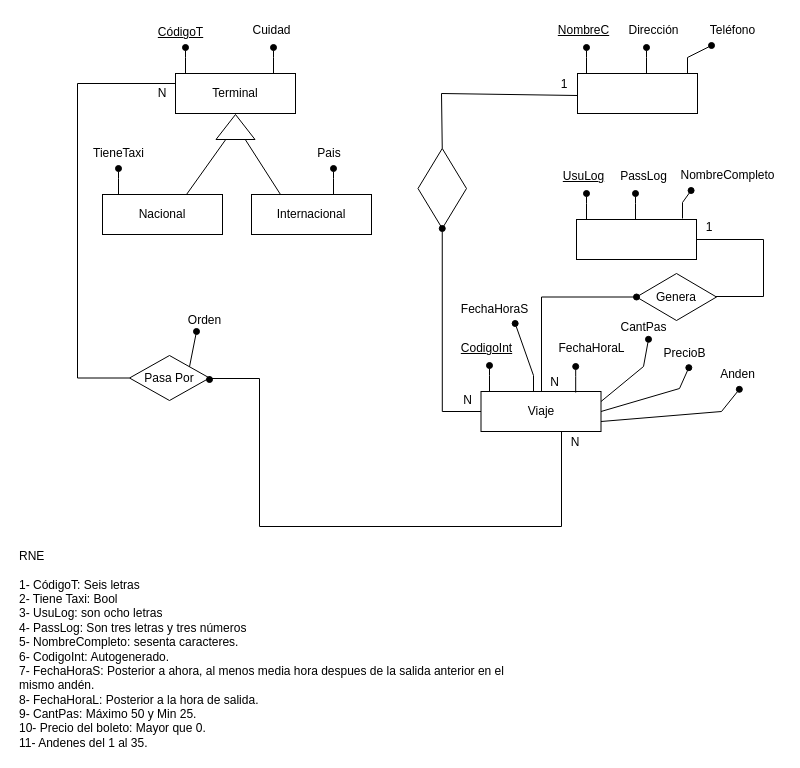
Some shapes in this 800 by 768 pixel diagram are drawn without their labels. The centre of each missing label's shape, as x and y in pixels:
Compañía: the point at 637,93
Empleado: the point at 636,239
Hace: the point at 441,188
